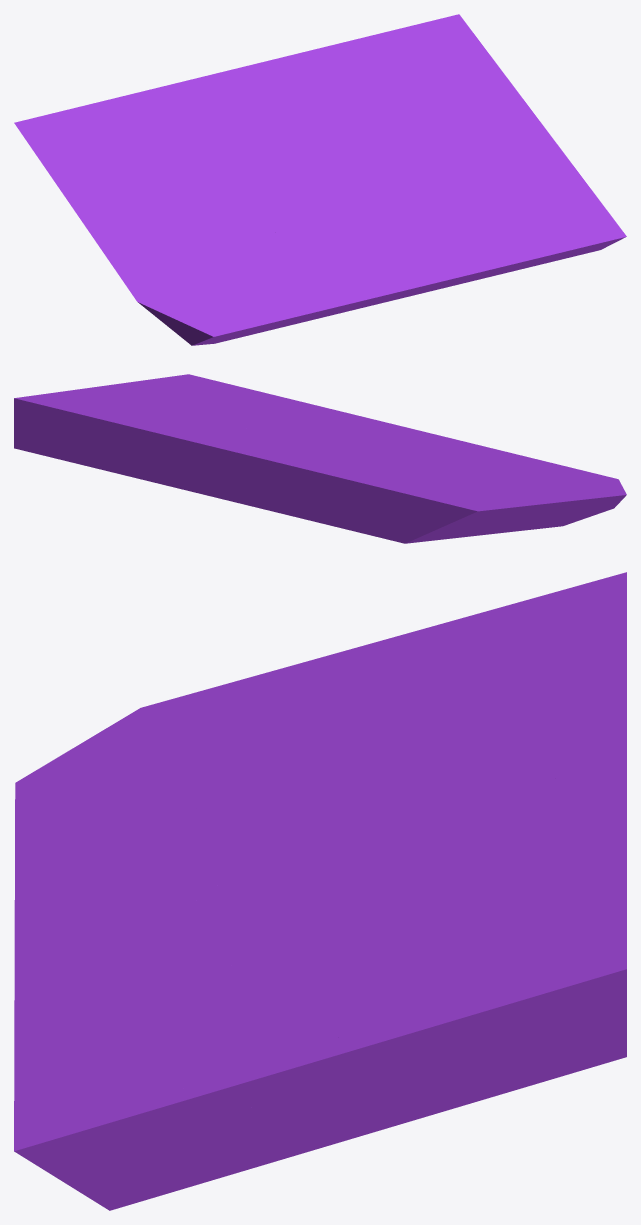
The model's file is Window_156_3_chunks.fbx.
The picture shows the model from 3 angles, top to bottom: view 1: azimuth 30°, elevation 25°; view 2: azimuth 150°, elevation 25°; view 3: azimuth 270°, elevation 25°; orthographic projection. The views are drawn at different scales.
Visible parts, largest first — view 1: Window_156_3_9, Window_156_3_8, Window_156_3_10, Window_156_3_5, Window_156_3_2, Window_156_3_6, Window_156_3_11, Window_156_3_3, Window_156_3_15, Window_156_3_12, Window_156_3_7, Window_156_3_14 (+3 smaller); view 2: Window_156_3_9, Window_156_3_8, Window_156_3_0, Window_156_3_6, Window_156_3_5, Window_156_3_10, Window_156_3_2, Window_156_3_11, Window_156_3_3, Window_156_3_15, Window_156_3_12, Window_156_3_7 (+3 smaller); view 3: Window_156_3_9, Window_156_3_10, Window_156_3_8, Window_156_3_5, Window_156_3_11, Window_156_3_6, Window_156_3_2, Window_156_3_3, Window_156_3_15, Window_156_3_12, Window_156_3_7, Window_156_3_14 (+2 smaller).
Boxes of the visible parts, x1,y1,x2,y2 form: Window_156_3_9: (278,14,539,135); Window_156_3_8: (42,73,247,203); Window_156_3_10: (401,177,626,280); Window_156_3_5: (119,194,306,319); Window_156_3_2: (284,209,499,320); Window_156_3_6: (14,116,173,275); Window_156_3_11: (397,121,581,192); Window_156_3_3: (171,250,363,336); Window_156_3_15: (270,58,384,155); Window_156_3_12: (276,140,402,237); Window_156_3_7: (228,105,306,208); Window_156_3_14: (351,128,415,233); Window_156_3_9: (14,386,219,473); Window_156_3_8: (267,455,470,539); Window_156_3_0: (120,444,331,525); Window_156_3_6: (387,479,604,543); Window_156_3_5: (382,448,626,532); Window_156_3_10: (143,374,351,427); Window_156_3_2: (321,406,462,456); Window_156_3_11: (99,380,281,421); Window_156_3_3: (453,441,618,487); Window_156_3_15: (202,424,312,450); Window_156_3_12: (281,427,381,450); Window_156_3_7: (286,448,417,527); Window_156_3_9: (291,808,626,1150); Window_156_3_10: (14,943,312,1210); Window_156_3_8: (339,597,626,784); Window_156_3_5: (94,688,347,852); Window_156_3_11: (178,926,379,1109); Window_156_3_6: (210,572,626,729); Window_156_3_2: (14,836,259,1037); Window_156_3_3: (14,740,175,916); Window_156_3_15: (358,807,626,913); Window_156_3_12: (140,816,436,943); Window_156_3_7: (261,778,535,852); Window_156_3_14: (148,887,404,950).
Bounding box in the file's own units: 992 × 275 × 633.
